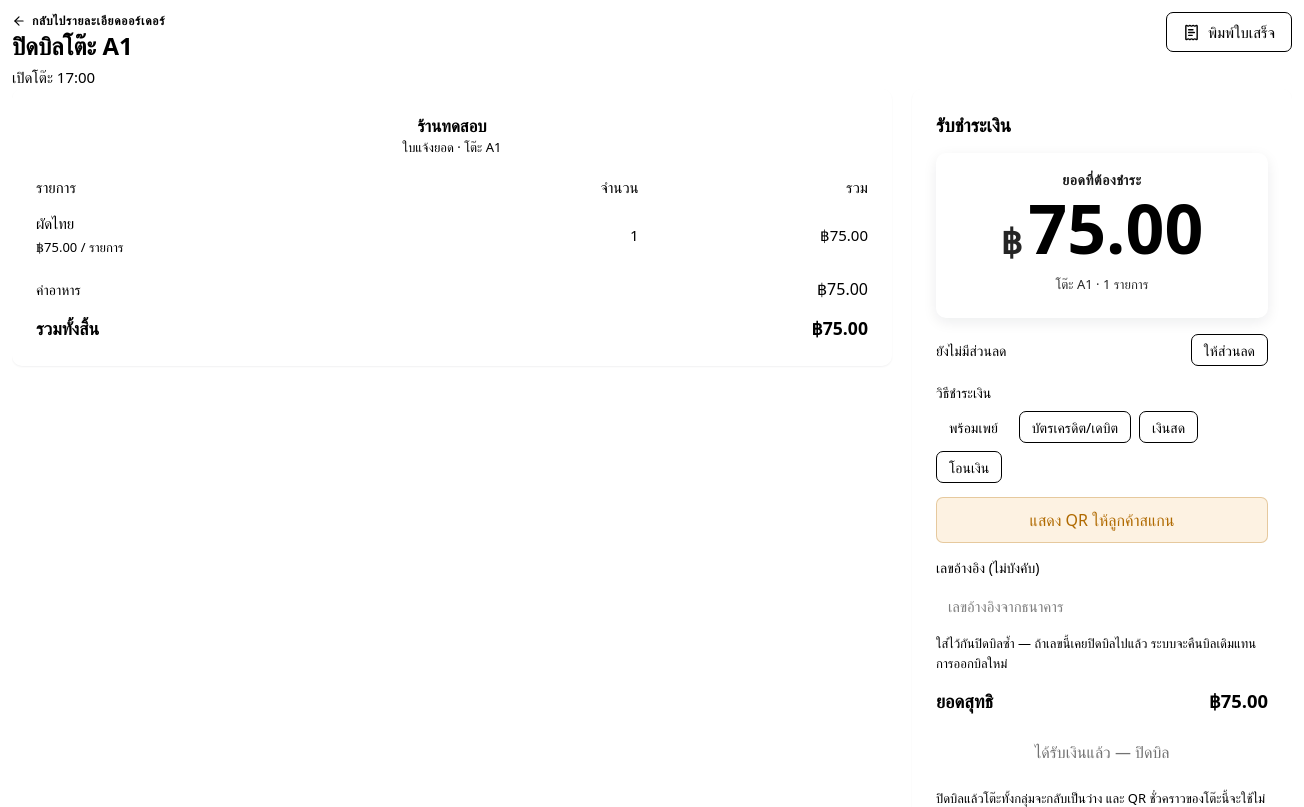
Scenario: หน้าปิดบิลโต๊ะ — ส่วนลด › ไม่มีส่วนลด → ปุ่ม 'ให้ส่วนลด' เปิดช่องกรอก · บาทเกินค่าอาหารกดใช้ไม่ได้
This screenshot has width=1304, height=807.
Click the button "ให้ส่วนลด": (1229, 350) [1191,334,1268,366]
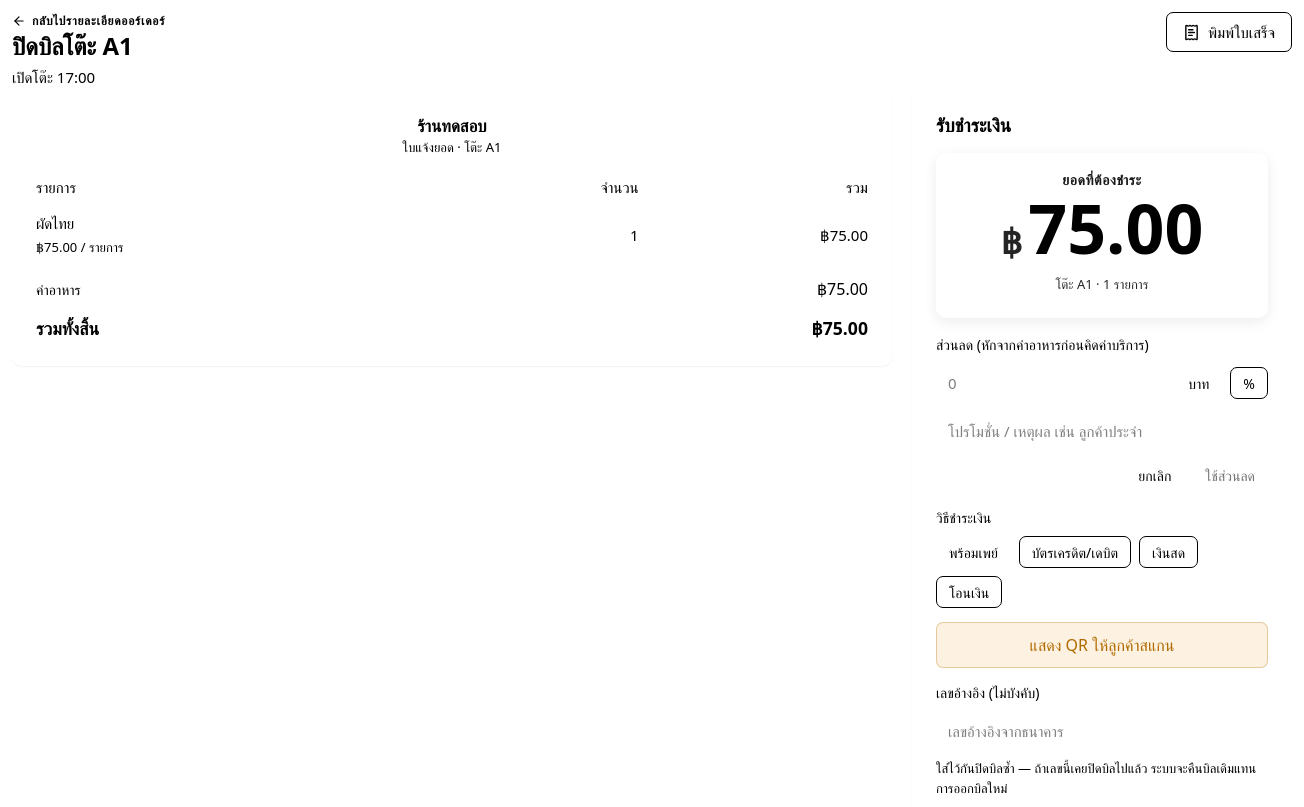
In the field labelled "ส่วนลด (หักจากค่าอาหารก่อนคิดค่าบริการ)": (1052, 384) [936,364,1167,404], type "80"
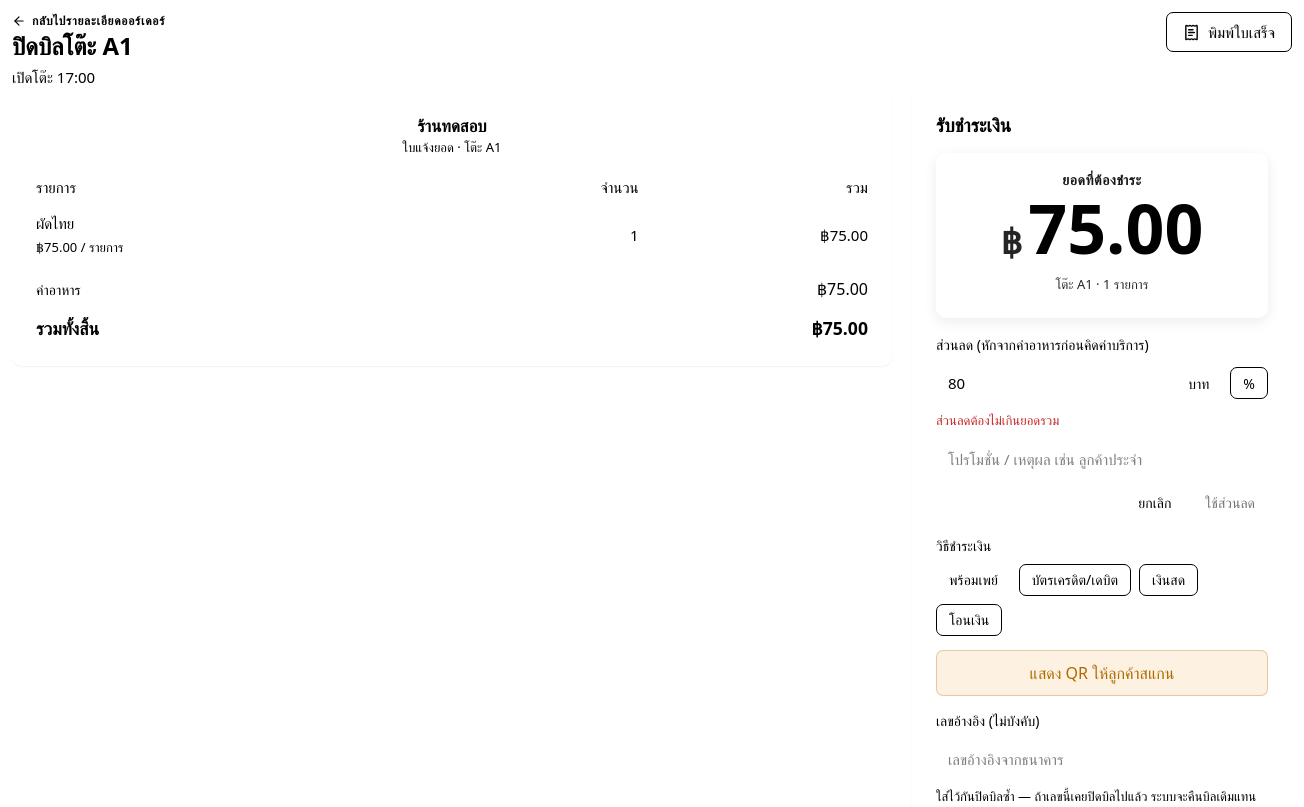
Expected: the button "ใช้ส่วนลด" is disabled, [1192,487,1268,519]
Expected: the text "ส่วนลดต้องไม่เกินยอดรวม" is shown, [936,412,1059,430]
